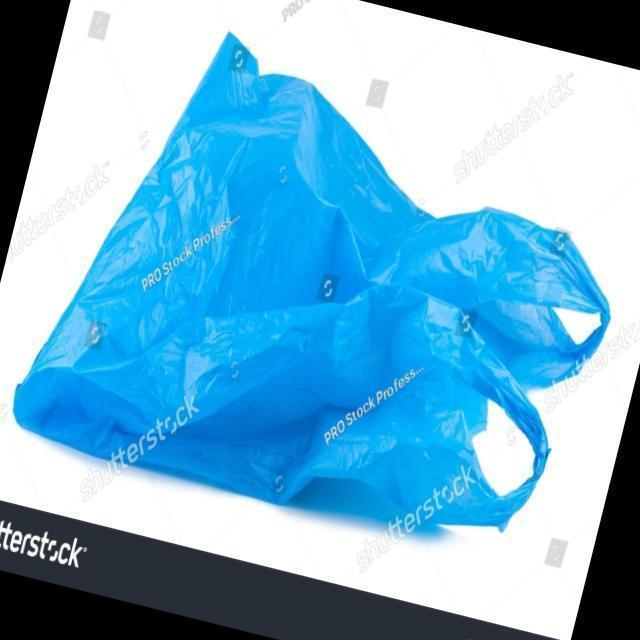Plastic_Bag: (15, 16, 640, 578)
